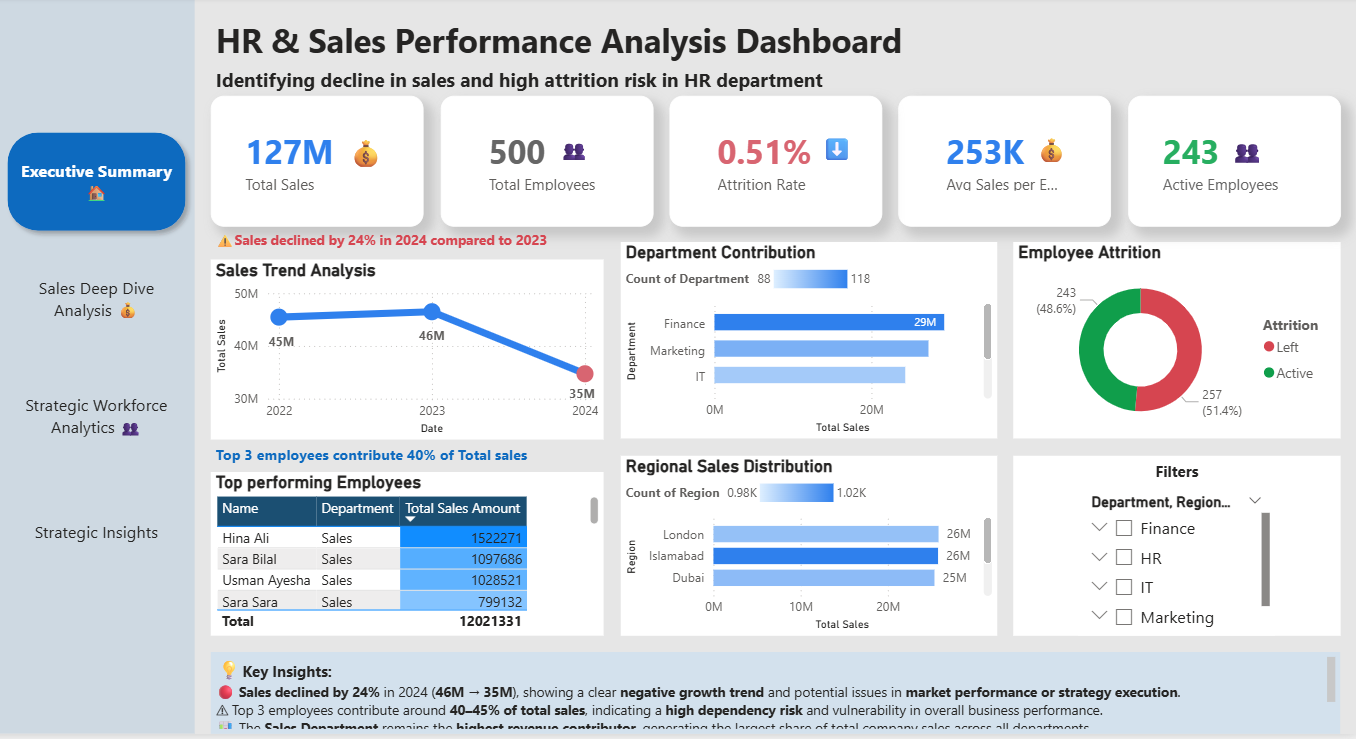

What the dashboard file says about the page in this screenshot:
{"tool":"powerbi","page":{"name":"Executive Summary 🏠","canvas":[1345,720],"ordinal":0},"visuals":[{"type":"shape","box":[16,0,192,720],"z":0,"group":"g1"},{"type":"textbox","box":[1008,448,320,176],"z":0},{"type":"cardVisual","fields":{"Data":["Sales_Data.Total Sales"]},"box":[224,96,208,128],"z":1000},{"type":"cardVisual","fields":{"Data":["Sales_Data.Avg Sales per Employee"]},"box":[896,96,208,128],"z":2000},{"type":"cardVisual","fields":{"Data":["HR_Data.Total Employees"]},"box":[448,96,208,128],"z":3000},{"type":"cardVisual","fields":{"Data":["HR_Data.Attrition Rate"]},"box":[672,96,208,128],"z":4000},{"type":"lineChart","title":"Sales Trend Analysis","fields":{"Category":["Sales_Data.Date.Variation.Date Hierarchy.Year"],"Y":["Sales_Data.Total Sales"]},"box":[224,256,384,176],"z":5000},{"type":"donutChart","title":"Employee Attrition","fields":{"Category":["HR_Data.Attrition"],"Y":["CountNonNull(HR_Data.Employee ID)"]},"box":[1008,240,320,192],"z":6000},{"type":"cardVisual","fields":{"Data":["Sales_Data.Sales Growth %"]},"box":[1120,96,208,128],"z":7000},{"type":"slicer","fields":{"Values":["HR_Data.Department","Sales_Data.Region","HR_Data.Gender","Sales_Data.Date"]},"box":[1072,480,192,144],"z":8000},{"type":"barChart","title":"Department Contribution","fields":{"Category":["HR_Data.Department"],"Y":["Sales_Data.Total Sales"]},"box":[624,240,368,192],"z":9000},{"type":"barChart","title":"Regional Sales Distribution","fields":{"Category":["Sales_Data.Region"],"Y":["Sales_Data.Total Sales"]},"box":[624,448,368,176],"z":10000},{"type":"tableEx","title":"Top performing Employees","fields":{"Values":["HR_Data.Name","HR_Data.Department","Sum(Sales_Data.Sales Amount)"]},"box":[224,464,384,160],"z":11000},{"type":"textbox","box":[224,640,1104,80],"z":12000},{"type":"textbox","box":[224,16,848,80],"z":13000},{"type":"textbox","box":[224,64,880,48],"z":14000},{"type":"textbox","box":[224,224,368,32],"z":15000},{"type":"textbox","box":[224,432,352,32],"z":16000},{"type":"group","id":"g1","title":"Group 1","box":[16,0,192,720],"z":17000},{"type":"textbox","box":[352,128,48,48],"z":18000},{"type":"pageNavigator","box":[16,122.9,192,456.6],"z":18500,"group":"g1"},{"type":"textbox","box":[560,128,48,48],"z":19000},{"type":"textbox","box":[816,128,48,48],"z":20000},{"type":"textbox","box":[1024,128,64,48],"z":21000},{"type":"textbox","box":[1216,128,64,48],"z":22000}]}

Visuals, with their boxes on the page's 1345x720 design canvas (x1, y1, x2, y2). These are canvas units, not pixel positions in the 1356x739 screenshot, which may show the page scaled, cropped or inside an application window:
shape: (16,0,208,720)
textbox: (1008,448,1328,624)
cardVisual - Sales_Data.Total Sales: (224,96,432,224)
cardVisual - Sales_Data.Avg Sales per Employee: (896,96,1104,224)
cardVisual - HR_Data.Total Employees: (448,96,656,224)
cardVisual - HR_Data.Attrition Rate: (672,96,880,224)
"Sales Trend Analysis" lineChart: (224,256,608,432)
"Employee Attrition" donutChart: (1008,240,1328,432)
cardVisual - Sales_Data.Sales Growth %: (1120,96,1328,224)
slicer - HR_Data.Department x Sales_Data.Region: (1072,480,1264,624)
"Department Contribution" barChart: (624,240,992,432)
"Regional Sales Distribution" barChart: (624,448,992,624)
"Top performing Employees" tableEx: (224,464,608,624)
textbox: (224,640,1328,720)
textbox: (224,16,1072,96)
textbox: (224,64,1104,112)
textbox: (224,224,592,256)
textbox: (224,432,576,464)
"Group 1" group: (16,0,208,720)
textbox: (352,128,400,176)
pageNavigator: (16,123,208,580)
textbox: (560,128,608,176)
textbox: (816,128,864,176)
textbox: (1024,128,1088,176)
textbox: (1216,128,1280,176)
